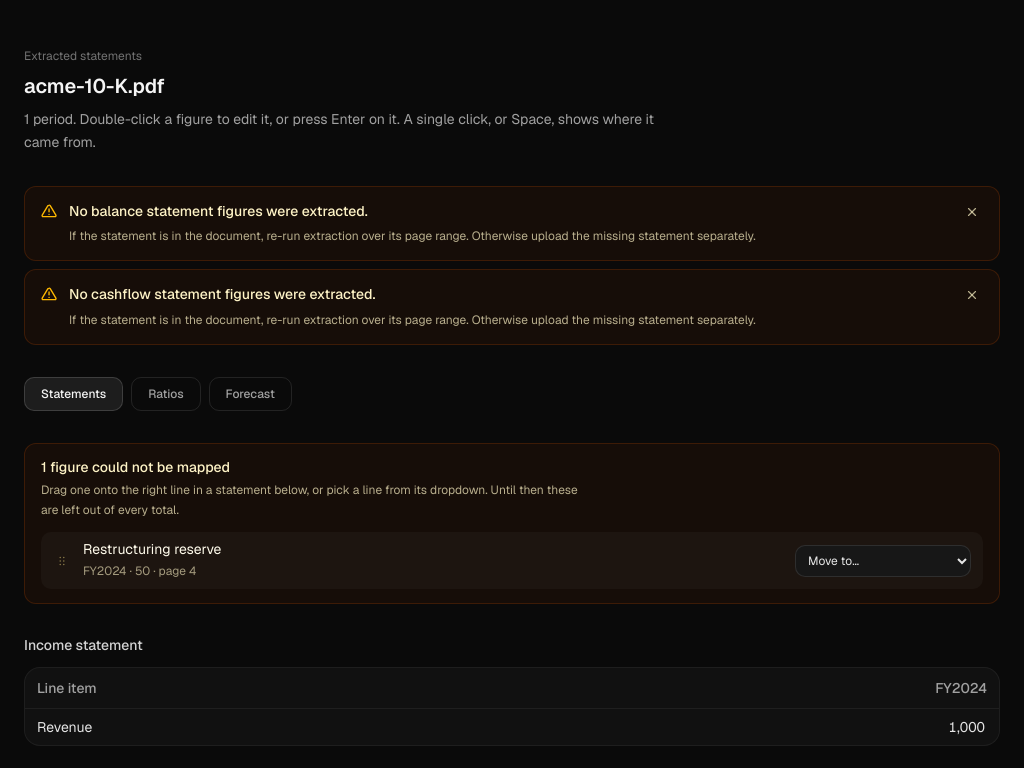
it: WorkspaceScreen remapping › shows the refusal as a toast and does not claim the move happened
Select "Inventory" in the dropdown named "Move Restructuring reserve to a line item": (883, 561) [795, 545, 971, 577]
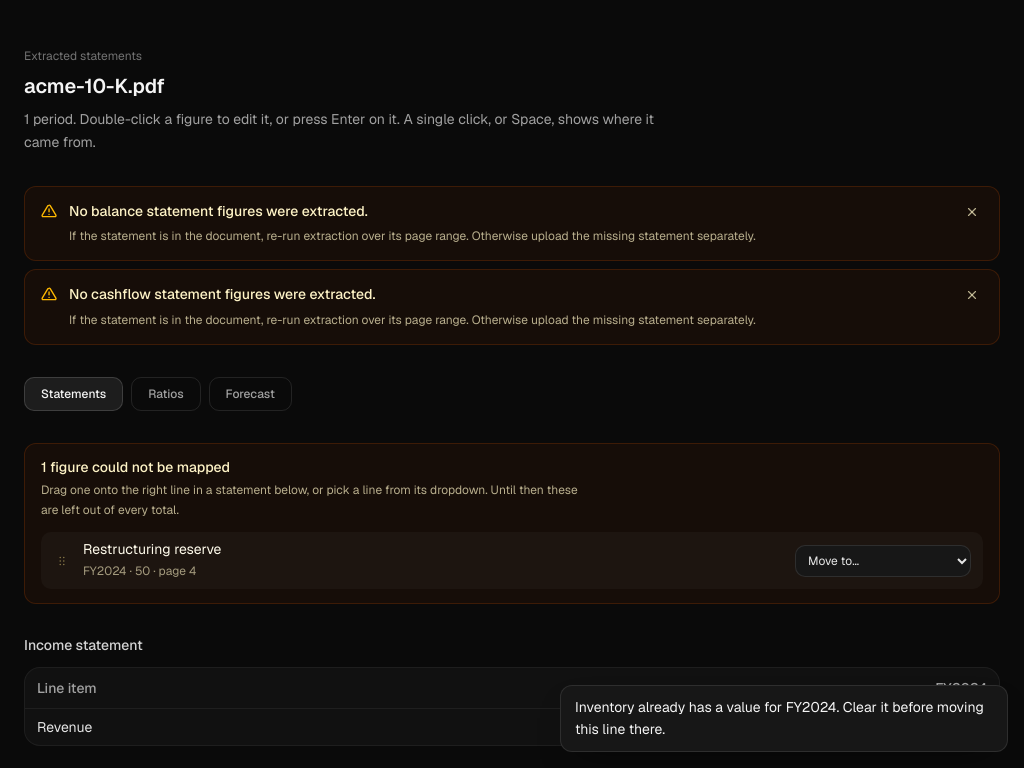
Expected: the text "Inventory already has a value for FY2024" is shown, [575, 698, 984, 738]
